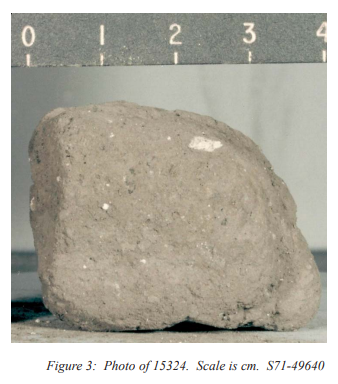Breccia: (25, 94, 319, 331), (85, 130, 287, 324)
